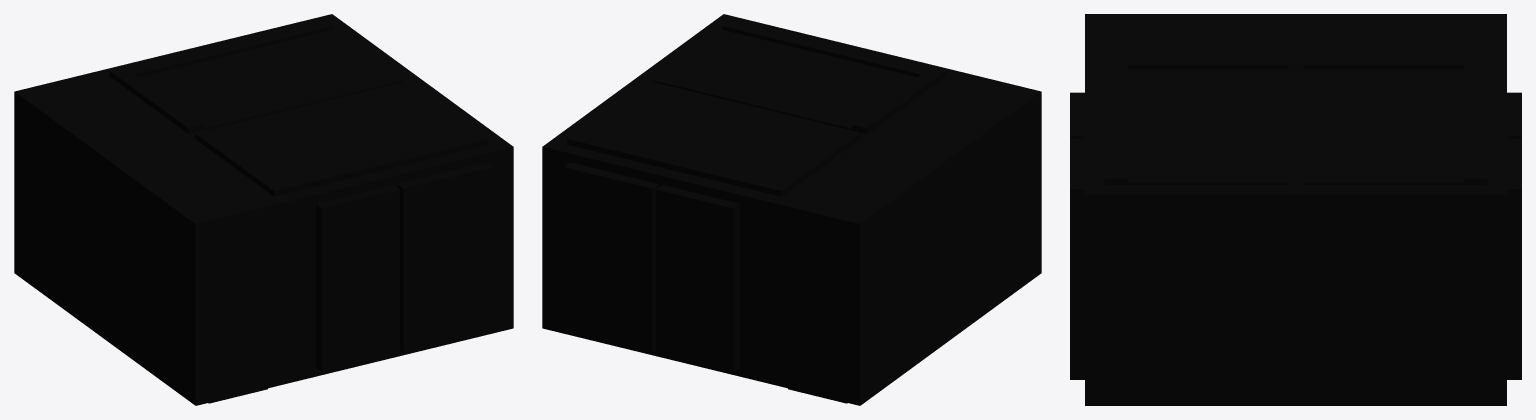
Rendered from bench_leggings_5.obj.
3 renders of one model, left to right at view 1: azimuth 30°, elevation 25°; view 2: azimuth 150°, elevation 25°; view 3: azimuth 270°, elevation 25°, orthographic. The views are drawn at different scales.
Parts seen in each view (by area): view 1: geometry; view 2: geometry; view 3: geometry.
Part boxes in pixels (bbox=[...]): geometry: bbox=[14, 14, 513, 405]; geometry: bbox=[542, 14, 1041, 405]; geometry: bbox=[1070, 14, 1521, 405].
Bounding box in the file's own units: 0.4335 × 0.25 × 0.4587.
